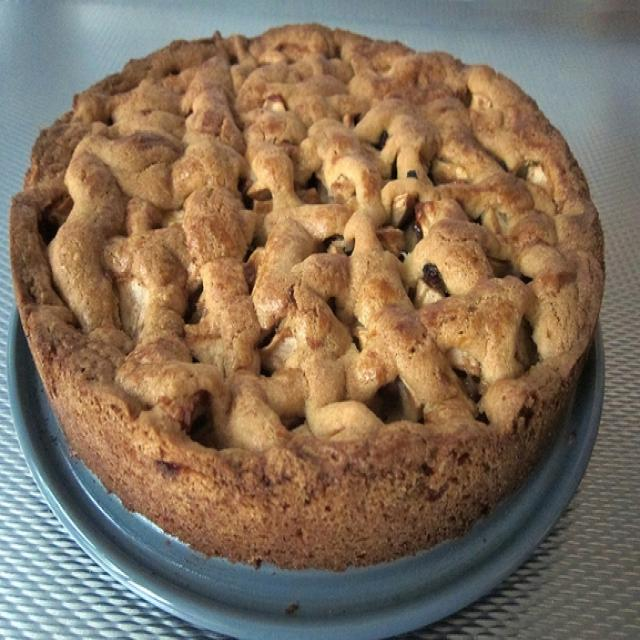炸货点心: (5, 18, 619, 612)
蛋糕甜品: (5, 18, 619, 612)
